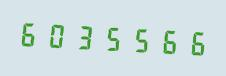five: (125, 20, 151, 58), (98, 19, 124, 56)
six: (17, 15, 43, 52), (152, 22, 178, 59), (179, 23, 205, 60)
three: (71, 17, 97, 55)
zero: (44, 16, 70, 53)
